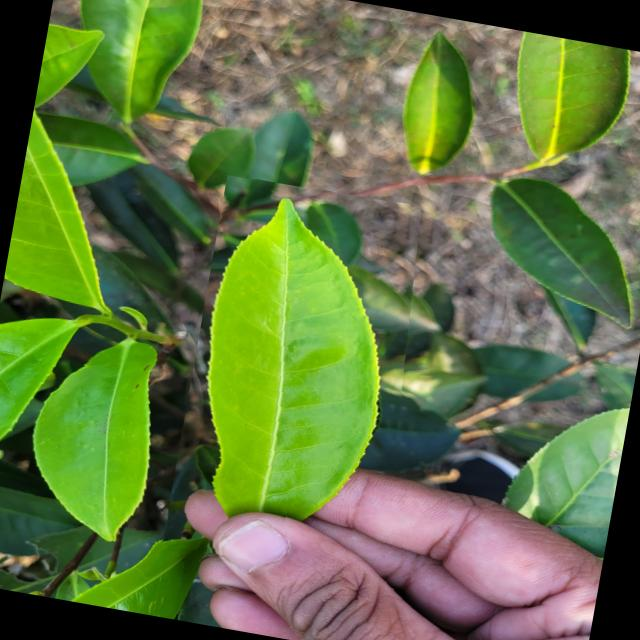Category B(2-4 days): (161, 172, 445, 582)
